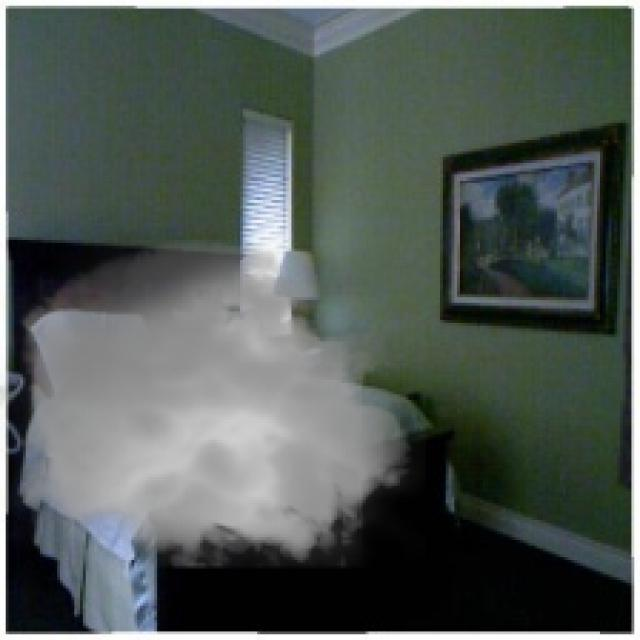smoke: (0, 228, 426, 583)
